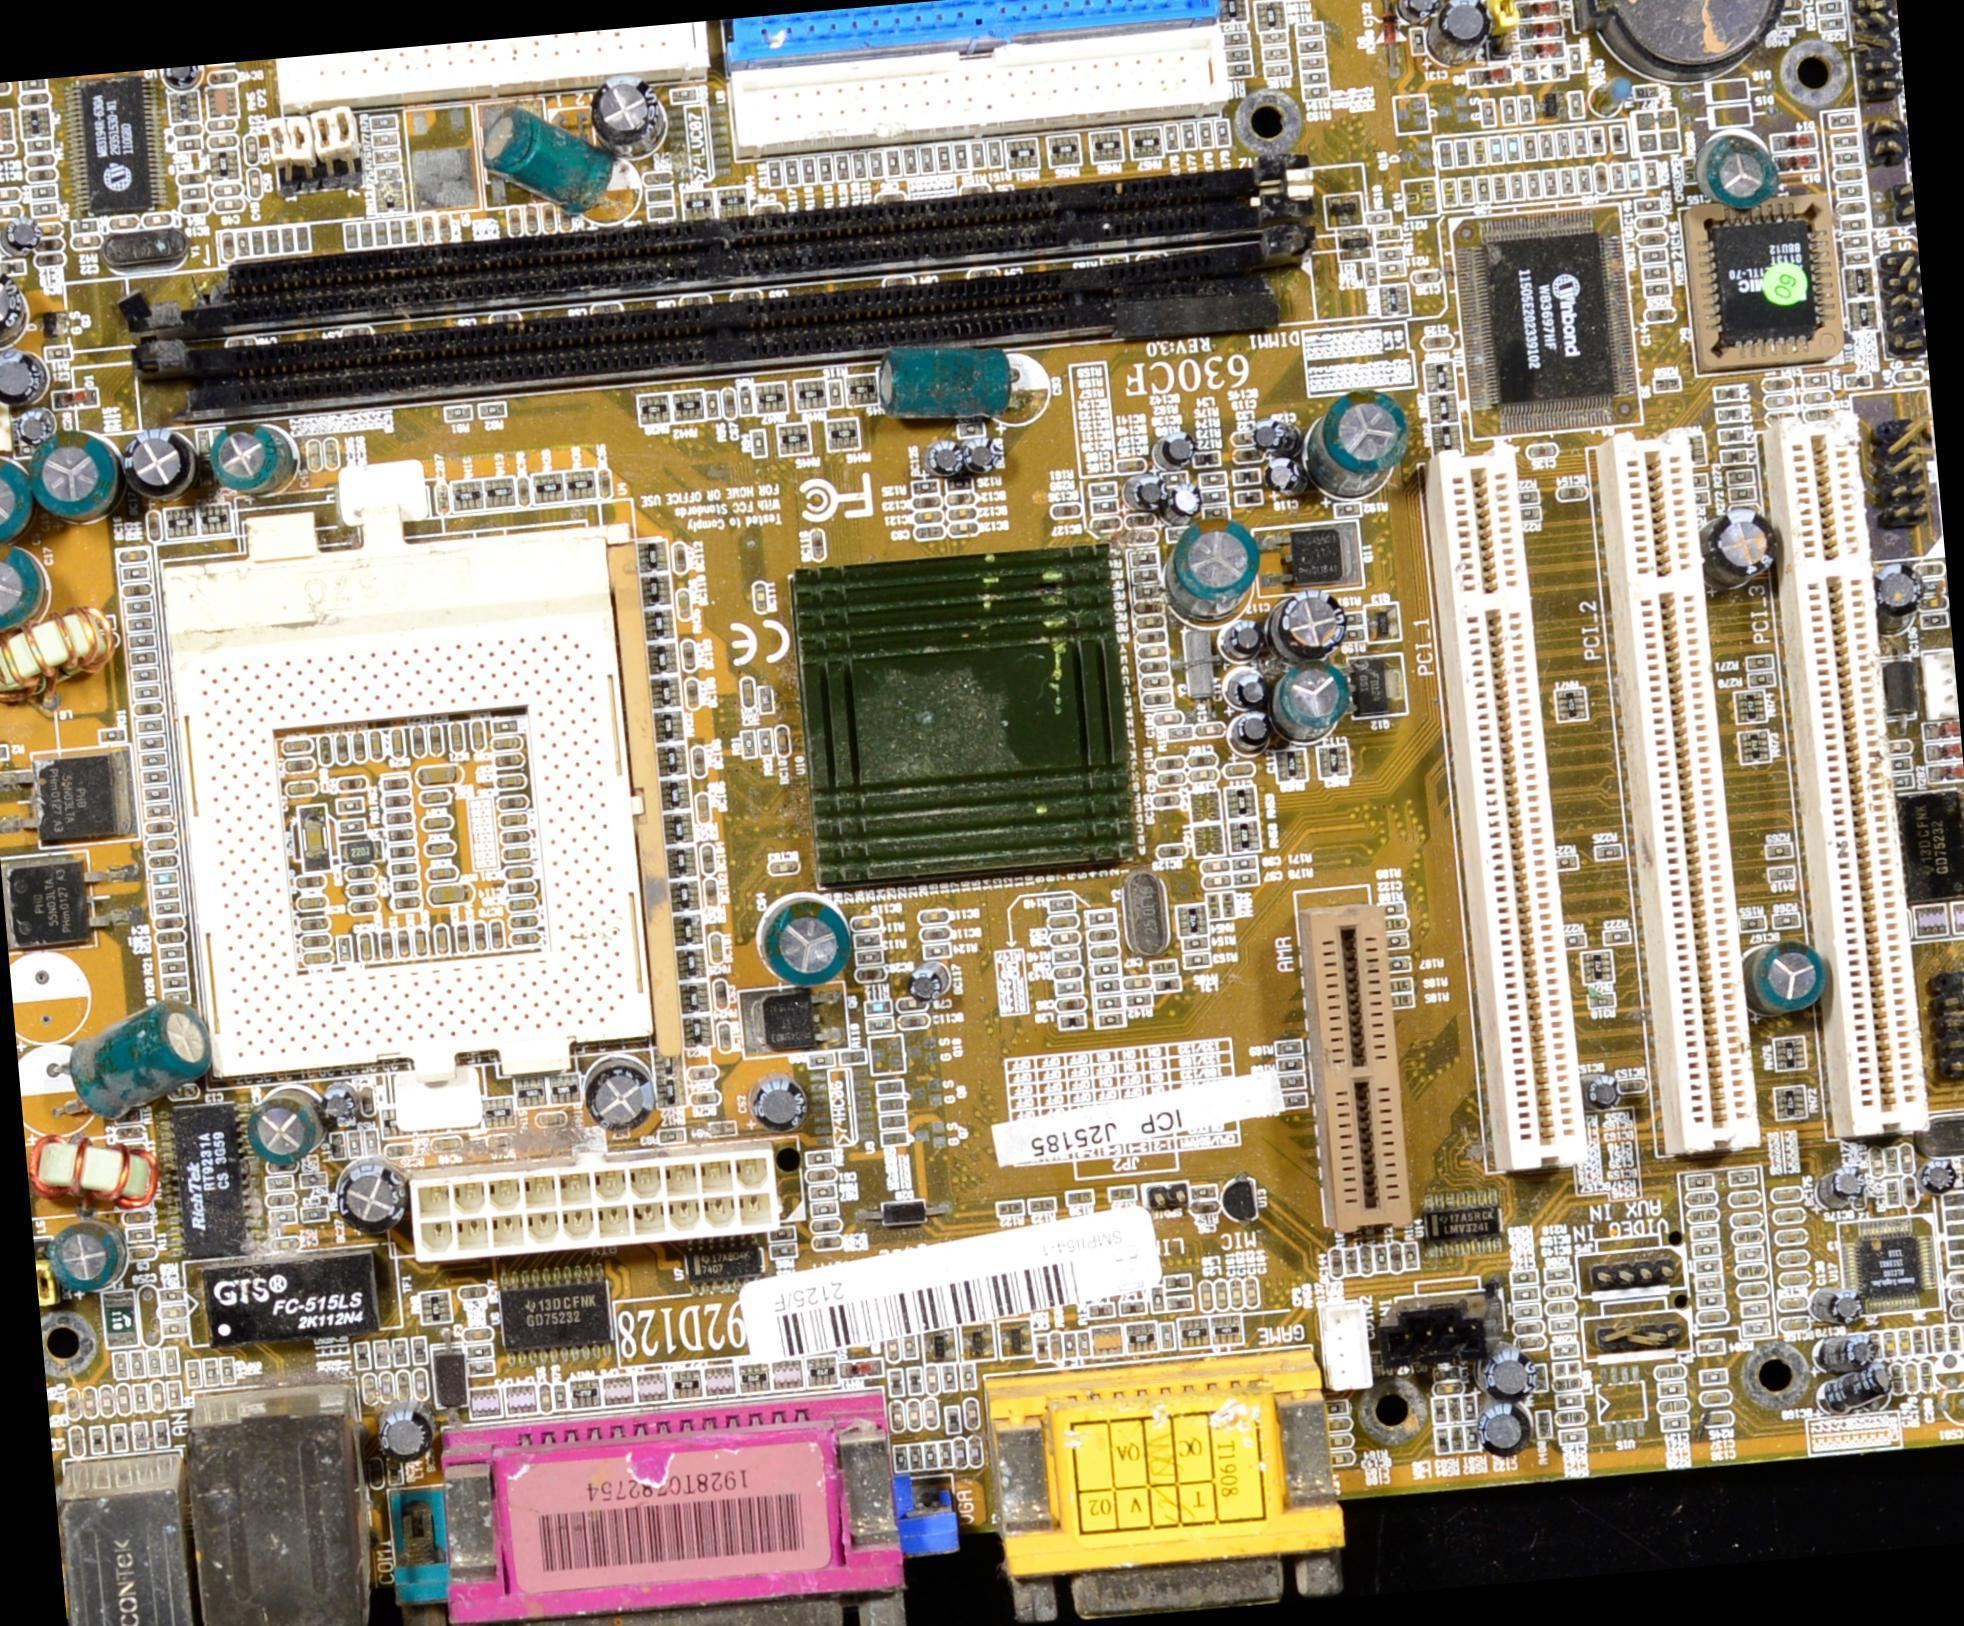Capacitor: (721, 391, 734, 419), (1421, 333, 1446, 347), (466, 1328, 492, 1341), (903, 1000, 933, 1011), (272, 1238, 301, 1249), (151, 1380, 163, 1408), (160, 933, 188, 944), (65, 1391, 80, 1413), (83, 1391, 96, 1414), (149, 216, 174, 226), (1698, 1416, 1727, 1425), (1411, 270, 1435, 282), (807, 1172, 836, 1182), (893, 1401, 902, 1428), (341, 778, 368, 788), (542, 1382, 551, 1408), (924, 1368, 936, 1388), (1920, 1363, 1930, 1390), (744, 682, 753, 707), (128, 1213, 148, 1224), (248, 172, 259, 192), (1090, 930, 1114, 939), (101, 1388, 111, 1412), (129, 1246, 149, 1257), (888, 1339, 899, 1358), (908, 1405, 918, 1427), (1949, 1329, 1960, 1349), (914, 527, 937, 537), (290, 783, 314, 793), (149, 855, 171, 865), (1190, 770, 1213, 780), (273, 1195, 294, 1205), (1244, 1280, 1254, 1301), (1781, 1272, 1803, 1282), (966, 1401, 976, 1422), (956, 1443, 966, 1465), (1143, 618, 1164, 628), (318, 738, 328, 760), (1652, 310, 1671, 321), (1392, 1245, 1400, 1269), (1232, 1282, 1239, 1307), (1060, 996, 1080, 1006), (1437, 1380, 1456, 1389), (1770, 398, 1790, 407), (139, 705, 159, 715), (719, 983, 728, 1007), (1189, 1204, 1212, 1211), (119, 1390, 127, 1412), (928, 1402, 936, 1425), (246, 139, 255, 161), (124, 587, 146, 595), (0, 191, 18, 200), (79, 235, 97, 244), (1534, 447, 1551, 456), (1057, 968, 1077, 977), (1215, 1285, 1223, 1305), (1203, 1287, 1210, 1306), (1240, 453, 1259, 462), (149, 824, 168, 831), (1363, 1247, 1371, 1271), (1894, 1368, 1900, 1391), (1933, 1330, 1941, 1349), (1659, 1370, 1677, 1378), (1664, 1402, 1682, 1411), (24, 94, 42, 102), (1129, 977, 1144, 987), (1332, 1455, 1347, 1464), (506, 883, 533, 888), (116, 218, 132, 226), (1768, 378, 1785, 386), (1890, 742, 1907, 751), (1053, 918, 1074, 925), (0, 208, 20, 216), (217, 202, 236, 208), (512, 902, 531, 909), (1209, 865, 1224, 872), (1163, 715, 1178, 722), (1519, 1323, 1537, 1329), (1557, 1416, 1574, 1422), (1097, 948, 1112, 954), (1521, 1339, 1536, 1345), (1332, 1438, 1349, 1445), (1809, 395, 1825, 401), (1160, 762, 1176, 768), (165, 1311, 180, 1317), (1709, 1393, 1720, 1402), (1775, 413, 1790, 419), (1145, 649, 1160, 655), (1191, 756, 1206, 764), (1161, 778, 1176, 784), (0, 82, 8, 93), (1916, 1331, 1922, 1348), (217, 186, 235, 191), (969, 1446, 975, 1460), (1204, 726, 1217, 733), (0, 143, 9, 152), (1559, 1381, 1576, 1386), (1057, 936, 1071, 941), (1232, 766, 1246, 772), (217, 121, 230, 125), (1787, 0, 1796, 6), (1810, 413, 1824, 418), (1212, 879, 1222, 883), (1389, 923, 1400, 927)
Connector: (1434, 454, 1573, 1154), (1630, 438, 1752, 1140), (1802, 431, 1897, 1104), (1317, 912, 1396, 1207)
IC: (805, 555, 1118, 872), (1466, 220, 1624, 426), (174, 1107, 238, 1252), (89, 84, 150, 204), (1899, 790, 1963, 898), (499, 1287, 592, 1348), (1858, 1236, 1919, 1299), (681, 1241, 760, 1277), (1433, 1207, 1490, 1236), (1224, 1180, 1252, 1219)
Resistor: (1498, 96, 1513, 119), (445, 405, 468, 420), (759, 684, 771, 708), (168, 1383, 182, 1405), (1729, 468, 1751, 482), (1567, 48, 1581, 70), (1164, 727, 1190, 739), (186, 1362, 198, 1386), (100, 729, 124, 741), (744, 733, 755, 756), (1732, 1171, 1754, 1184), (266, 1176, 289, 1187), (272, 1213, 295, 1225), (1697, 1244, 1719, 1256), (138, 739, 162, 751), (1089, 913, 1110, 926), (707, 1124, 732, 1133), (1070, 1192, 1090, 1205), (1748, 1320, 1768, 1333), (915, 480, 934, 492), (123, 568, 148, 577), (365, 1132, 376, 1153), (1298, 22, 1320, 32), (673, 88, 695, 99), (945, 1368, 956, 1389), (965, 1368, 977, 1389), (1523, 137, 1535, 159), (128, 1229, 152, 1239), (1274, 1041, 1297, 1051), (301, 1174, 321, 1185), (1573, 91, 1582, 114), (987, 144, 999, 163), (1483, 102, 1495, 122), (1629, 163, 1641, 183), (1643, 164, 1653, 187), (475, 405, 497, 415), (25, 142, 50, 150), (1268, 64, 1284, 76), (1889, 1179, 1898, 1200), (1820, 5, 1841, 14), (1537, 1414, 1547, 1435), (857, 156, 866, 177), (839, 159, 849, 179), (1529, 174, 1539, 195), (149, 806, 169, 815), (903, 1337, 915, 1356), (651, 189, 669, 200), (1563, 175, 1574, 192), (176, 139, 201, 147), (1774, 915, 1795, 924), (1029, 1199, 1049, 1208), (1942, 1194, 1962, 1203), (1065, 1334, 1075, 1354), (923, 150, 933, 169), (870, 156, 880, 176), (786, 164, 796, 184), (1543, 136, 1553, 155), (1581, 172, 1591, 190), (134, 669, 154, 679), (759, 731, 769, 751), (1517, 1308, 1540, 1316), (894, 1449, 905, 1464), (1304, 58, 1326, 67), (1382, 263, 1405, 271), (338, 940, 347, 958), (926, 947, 945, 957), (1740, 920, 1759, 930), (149, 1354, 159, 1371), (1151, 1289, 1162, 1307), (1699, 1261, 1718, 1271), (555, 1386, 564, 1405), (1512, 176, 1522, 194), (948, 480, 965, 489), (139, 722, 157, 732), (149, 790, 166, 799), (338, 800, 356, 810), (343, 822, 361, 831), (1348, 1249, 1355, 1271), (224, 1362, 231, 1383), (137, 1385, 145, 1406), (35, 204, 55, 212), (1614, 167, 1622, 187), (1643, 286, 1664, 294), (831, 381, 839, 403), (753, 432, 761, 453), (1543, 1272, 1570, 1278), (812, 1205, 832, 1213), (130, 1355, 140, 1372), (470, 1348, 489, 1357), (1163, 1326, 1171, 1345), (1266, 45, 1285, 54), (1328, 1402, 1347, 1411), (940, 1445, 950, 1462), (1821, 20, 1836, 29), (1522, 96, 1530, 116), (1168, 131, 1178, 146), (907, 152, 915, 172), (347, 227, 355, 246), (1487, 139, 1498, 155), (1455, 143, 1463, 163), (1203, 475, 1221, 482), (125, 600, 145, 609), (142, 756, 159, 767), (1766, 844, 1789, 852), (349, 1134, 356, 1157), (1845, 257, 1868, 265), (1845, 378, 1867, 385), (128, 621, 150, 628), (1153, 962, 1171, 970), (1059, 984, 1076, 991), (810, 1189, 829, 1197), (1690, 1178, 1708, 1186), (1088, 1306, 1106, 1314), (470, 1363, 488, 1371), (1700, 1281, 1718, 1289), (1744, 1305, 1762, 1313), (1229, 50, 1247, 58), (182, 188, 200, 196), (1185, 126, 1192, 143), (822, 160, 831, 178), (1508, 139, 1515, 157), (1442, 146, 1450, 165), (1377, 231, 1395, 239), (1646, 269, 1664, 278), (1164, 473, 1182, 481), (1732, 491, 1751, 499), (144, 774, 162, 783), (1053, 900, 1068, 910), (167, 992, 181, 1001), (662, 1131, 677, 1140), (156, 888, 172, 897), (872, 1022, 889, 1030), (810, 1057, 827, 1065), (810, 1152, 827, 1160), (1196, 1188, 1212, 1196), (1227, 34, 1243, 42), (1696, 1230, 1713, 1238), (925, 1448, 933, 1464), (1218, 122, 1226, 139), (941, 150, 949, 167), (958, 150, 966, 167), (267, 233, 275, 249), (1368, 264, 1377, 281), (1137, 554, 1154, 562), (1773, 874, 1793, 880), (1884, 1150, 1891, 1170), (205, 1362, 212, 1382), (1845, 239, 1864, 246), (1398, 994, 1412, 1002), (1002, 1204, 1017, 1212), (375, 118, 390, 126), (1664, 1385, 1678, 1392), (1669, 1420, 1684, 1428), (805, 161, 812, 176), (1094, 484, 1110, 492), (157, 872, 172, 881), (164, 950, 179, 959), (1597, 846, 1615, 853), (870, 1002, 887, 1008), (1408, 1248, 1415, 1265), (1380, 1251, 1386, 1269), (1452, 1400, 1459, 1418), (1453, 1431, 1460, 1449), (32, 187, 51, 194), (890, 154, 897, 172), (239, 237, 247, 255), (652, 208, 671, 215), (1092, 501, 1110, 508), (1562, 855, 1575, 863), (167, 979, 180, 986), (1384, 903, 1399, 910), (1279, 1062, 1295, 1068), (773, 1228, 787, 1236), (165, 1290, 178, 1298), (1267, 33, 1283, 39), (168, 1325, 181, 1332), (1950, 1209, 1963, 1216), (1512, 1272, 1529, 1279), (1553, 1321, 1569, 1328), (1704, 1371, 1721, 1378), (1468, 1429, 1474, 1445), (1202, 125, 1208, 142), (772, 164, 778, 181), (253, 232, 260, 248), (391, 225, 398, 241), (1562, 136, 1569, 152), (1544, 175, 1551, 191), (1838, 155, 1854, 161), (1639, 201, 1653, 208), (51, 348, 67, 354), (1645, 254, 1661, 261), (1204, 508, 1217, 516), (1137, 569, 1153, 575), (1137, 587, 1153, 594), (134, 690, 150, 697), (500, 720, 514, 728), (1896, 759, 1909, 767), (78, 223, 100, 229), (132, 655, 153, 661), (860, 937, 875, 945), (1606, 930, 1621, 936), (1390, 959, 1404, 966), (1395, 979, 1405, 988), (1101, 1018, 1116, 1025), (777, 1247, 791, 1254), (167, 1353, 173, 1368), (1465, 1401, 1472, 1416), (1563, 1396, 1577, 1403), (1311, 87, 1326, 93), (1369, 212, 1384, 219), (132, 638, 147, 644), (861, 952, 873, 961), (1347, 614, 1358, 622), (1557, 1347, 1574, 1352), (285, 232, 290, 249), (165, 965, 178, 972), (1058, 953, 1071, 959), (1187, 956, 1201, 963), (1742, 1251, 1756, 1258), (1518, 1289, 1532, 1295), (1383, 252, 1396, 259), (1808, 377, 1821, 383), (1206, 494, 1219, 501), (1520, 491, 1533, 498), (1571, 935, 1580, 943), (1097, 982, 1113, 986), (1130, 998, 1146, 1003), (305, 1209, 321, 1214), (1952, 1240, 1963, 1248), (913, 1447, 918, 1463), (364, 228, 369, 244), (1831, 117, 1847, 122), (1835, 138, 1852, 144), (1479, 181, 1484, 198), (1187, 941, 1199, 947), (1951, 1226, 1963, 1233), (1305, 46, 1316, 52), (1308, 72, 1319, 79), (1575, 135, 1582, 147), (1754, 677, 1765, 683), (1281, 1078, 1296, 1083), (1114, 1190, 1129, 1196), (117, 1358, 123, 1373), (1705, 1296, 1719, 1302), (1564, 1434, 1579, 1439), (380, 152, 394, 157), (977, 150, 982, 164), (378, 225, 384, 240), (1750, 659, 1765, 663), (157, 905, 171, 910), (1523, 507, 1532, 515), (1240, 877, 1252, 883), (1591, 999, 1603, 1004), (1289, 1098, 1298, 1104), (379, 137, 392, 142), (406, 223, 411, 237), (25, 81, 38, 87), (1239, 860, 1252, 865), (1391, 937, 1403, 942), (1098, 965, 1109, 971), (1344, 632, 1356, 638), (1926, 583, 1938, 587), (1840, 189, 1856, 193), (381, 168, 392, 173), (298, 230, 302, 245), (0, 748, 5, 758), (1894, 776, 1903, 782), (1081, 1335, 1084, 1349), (1781, 18, 1795, 22), (1236, 67, 1243, 73), (1847, 223, 1855, 228), (1102, 999, 1110, 1005), (1958, 1257, 1963, 1262)
Transistor: (37, 755, 125, 837), (5, 863, 81, 944), (746, 990, 826, 1050), (1272, 530, 1351, 582), (1355, 664, 1398, 709), (1000, 1323, 1024, 1348), (1330, 201, 1357, 223), (1343, 234, 1365, 257), (1369, 607, 1388, 635), (964, 1328, 983, 1353), (1542, 95, 1559, 114), (931, 1336, 946, 1358)
